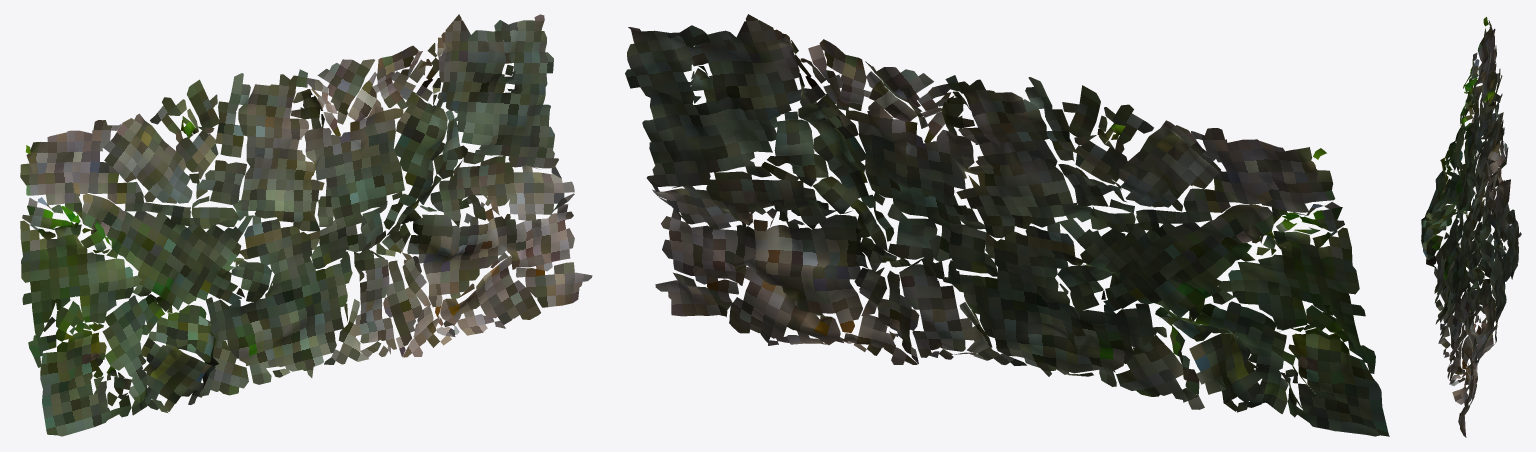
The model's file is groundlow.obj.
3 renders of one model, left to right at view 1: azimuth 30°, elevation 25°; view 2: azimuth 150°, elevation 25°; view 3: azimuth 270°, elevation 25°, orthographic. The views are drawn at different scales.
Bounding box in the file's own units: 4.43 × 2.2 × 0.8553.
Materials: 1 (1 with a texture image).
